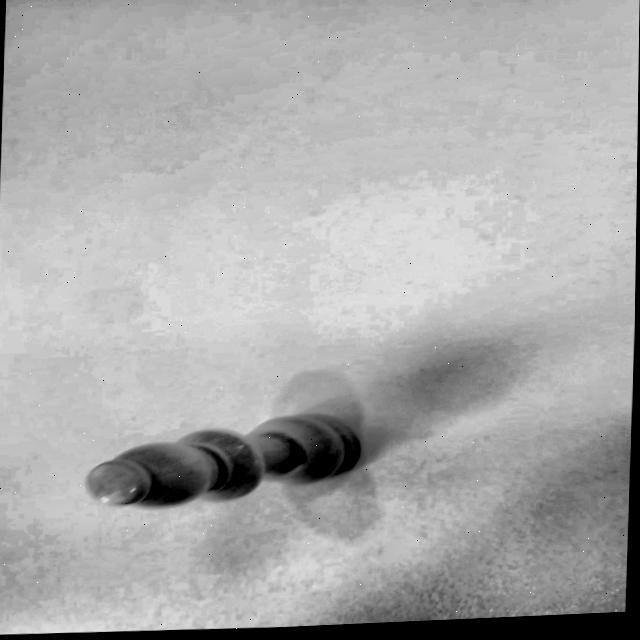white-bishop: (1, 370, 411, 557)
